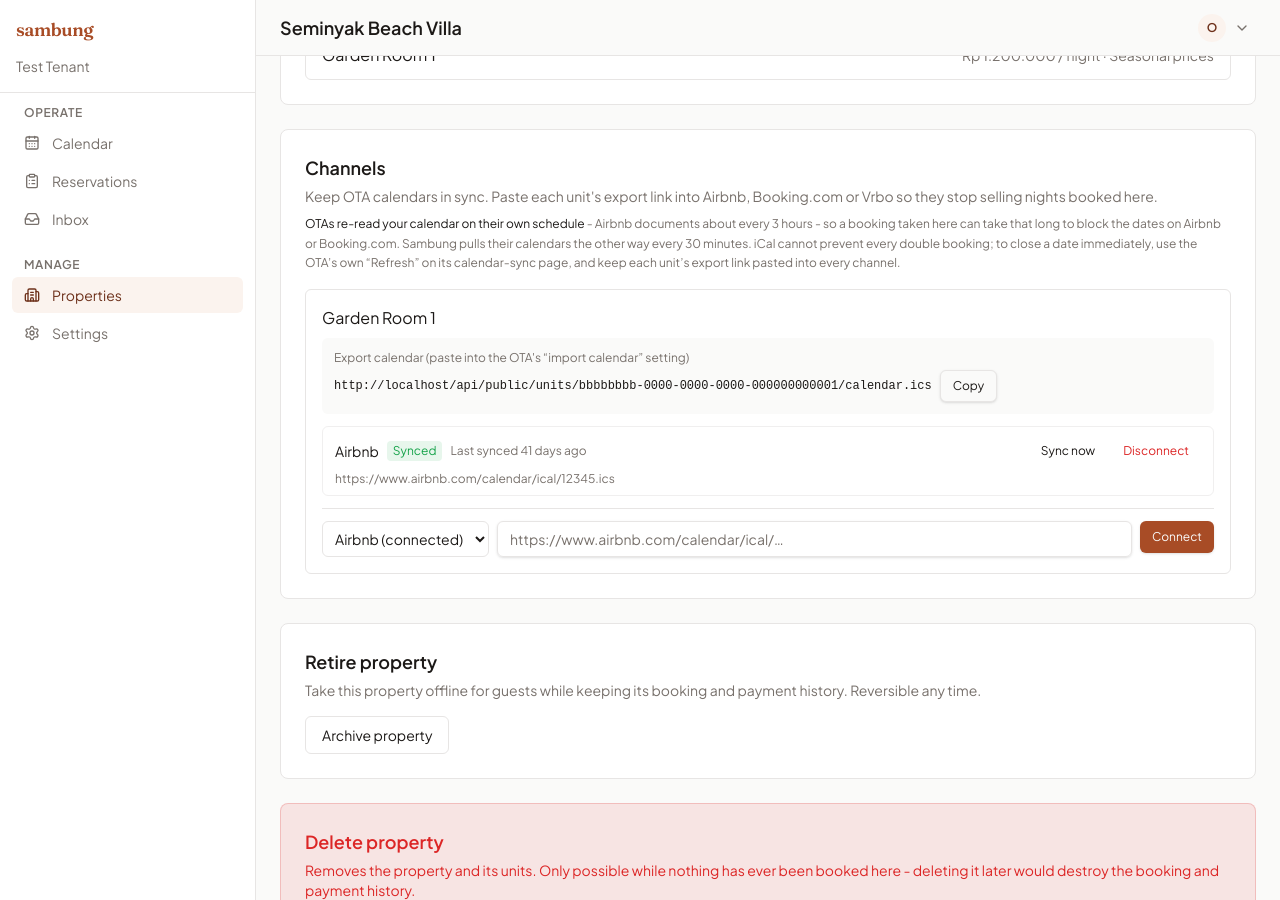
channels section (§4.5, #55) › retries one feed on demand and reports what that pull did (#201)
(page scrolled)
Click the button "Sync now" at (1068,450), box 1029,434 -> 1107,466
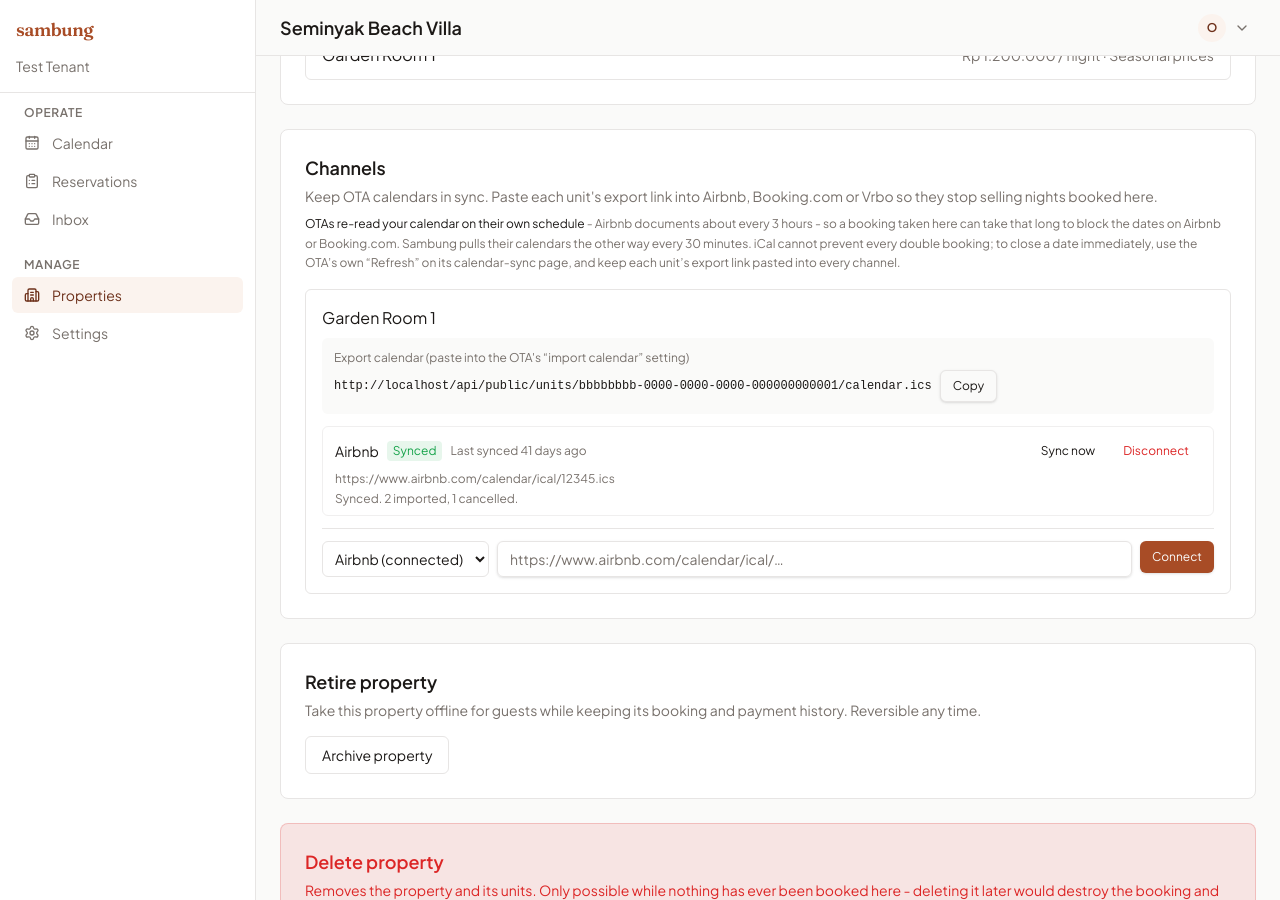
Expected: the text "Synced. 2 imported, 1 cancelled." is shown, 335,490 -> 518,506
